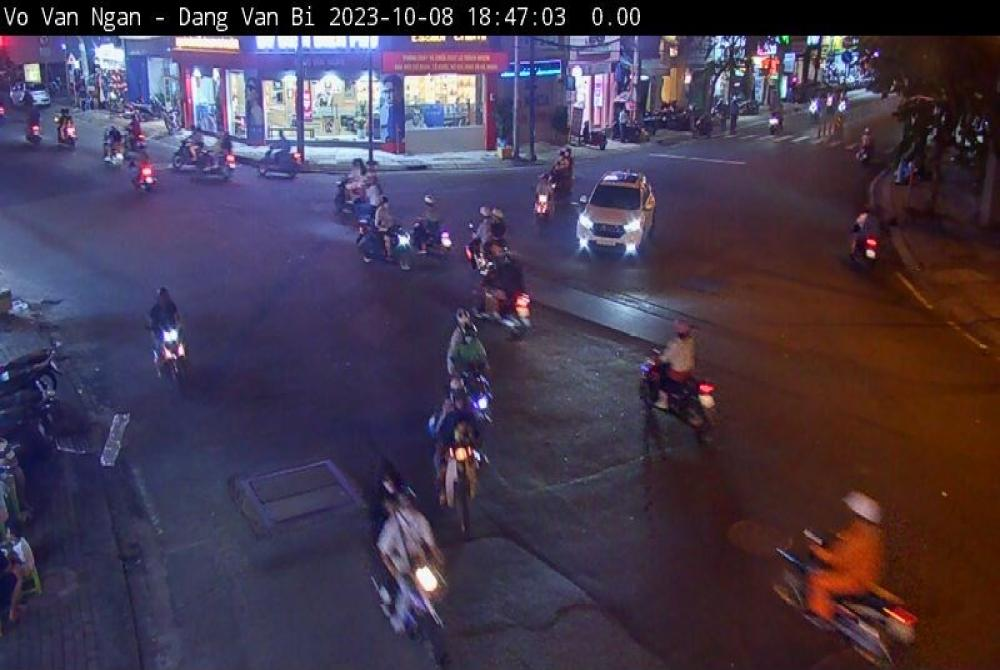car: (579, 172, 660, 266)
motorbike: (158, 320, 193, 398)
